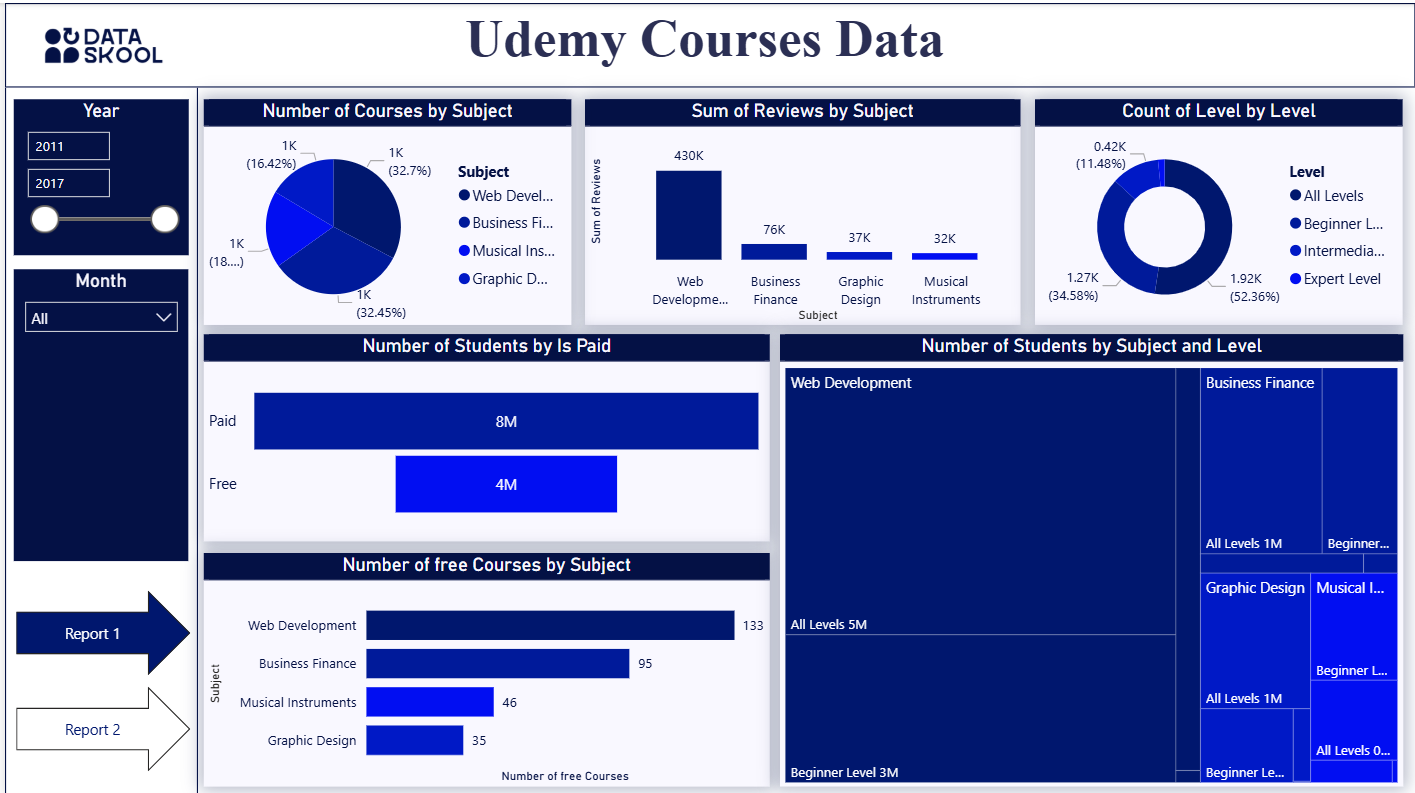

What the dashboard file says about the page in this screenshot:
{"tool":"powerbi","page":{"name":"Report 2","canvas":[1280,720],"ordinal":1},"visuals":[{"type":"shape","box":[0,59.2,175.1,661.4],"z":0},{"type":"shape","box":[0,0,1279.8,76.7],"z":1000},{"type":"image","box":[0,0,179.8,76.9],"z":2000},{"type":"textbox","box":[214.5,0,852.9,96.4],"z":3000},{"type":"columnChart","fields":{"Category":["Course's Data.Subject"],"Y":["Sum(Course's Data.Reviews)"]},"box":[526.7,87.1,394.8,205.2],"z":4000},{"type":"funnel","fields":{"Category":["Course's Data.Is Paid"],"Y":["'Measures'.Number of Students"]},"box":[179.8,300.5,513.5,188.1],"z":5000},{"type":"slicer","title":"Month","fields":{"Values":["Course's Data.Month Name"]},"box":[8.3,241.4,158.6,265],"z":6000},{"type":"barChart","fields":{"Category":["Course's Data.Subject"],"Y":["'Measures'.Number of free Courses"]},"box":[179.8,499.3,513.5,211.8],"z":7000},{"type":"pageNavigator","box":[10.6,533.6,158.6,165.7],"z":8000},{"type":"pieChart","fields":{"Category":["Course's Data.Subject"],"Y":["'Measures'.Number of Courses"]},"box":[179.8,87.4,333.7,204.7],"z":9000},{"type":"donutChart","fields":{"Category":["Course's Data.Level"],"Y":["CountNonNull(Course's Data.Level)"]},"box":[934.7,87.1,333.7,205.2],"z":10000},{"type":"treemap","fields":{"Group":["Course's Data.Subject"],"Details":["Course's Data.Level"],"Values":["'Measures'.Number of Students"]},"box":[702.8,300.5,565.6,410.6],"z":11000},{"type":"slicer","title":"Year","fields":{"Values":["Course's Data.Year"]},"box":[8.3,87.6,158.6,140.8],"z":12000}]}

Visuals, with their boxes in screenshot pixels (x1, y1, x2, y2), scaled from the page's 1280x720 canvas onto the 1415x793 screenshot:
shape: <box>0,65,194,792</box>
shape: <box>0,0,1414,84</box>
image: <box>0,0,199,85</box>
textbox: <box>237,0,1180,106</box>
columnChart - Course's Data.Subject x Sum(Course's Data.Reviews): <box>582,96,1019,322</box>
funnel - Course's Data.Is Paid x 'Measures'.Number of Students: <box>199,331,766,538</box>
"Month" slicer: <box>9,266,185,558</box>
barChart - Course's Data.Subject x 'Measures'.Number of free Courses: <box>199,550,766,783</box>
pageNavigator: <box>12,588,187,770</box>
pieChart - Course's Data.Subject x 'Measures'.Number of Courses: <box>199,96,568,322</box>
donutChart - Course's Data.Level x CountNonNull(Course's Data.Level): <box>1033,96,1402,322</box>
treemap - Course's Data.Subject x Course's Data.Level: <box>777,331,1402,783</box>
"Year" slicer: <box>9,96,185,252</box>
